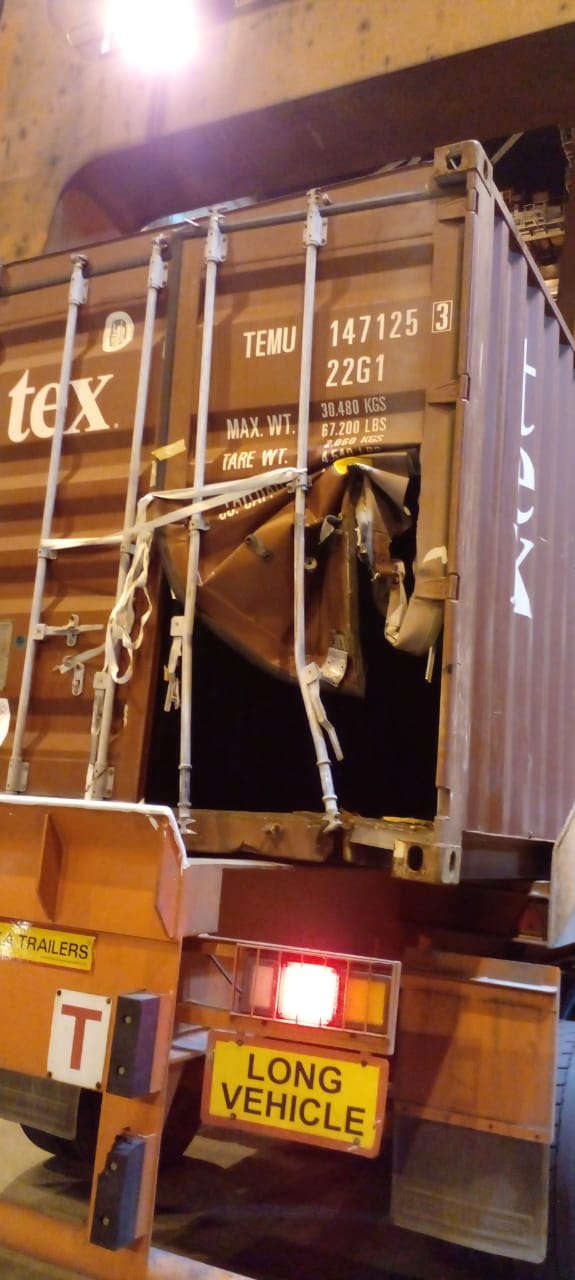dented: (152, 411, 427, 822)
